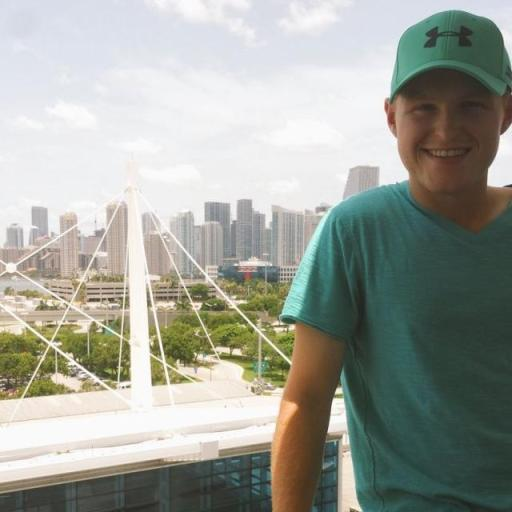Under Armour: (421, 23, 476, 50)
